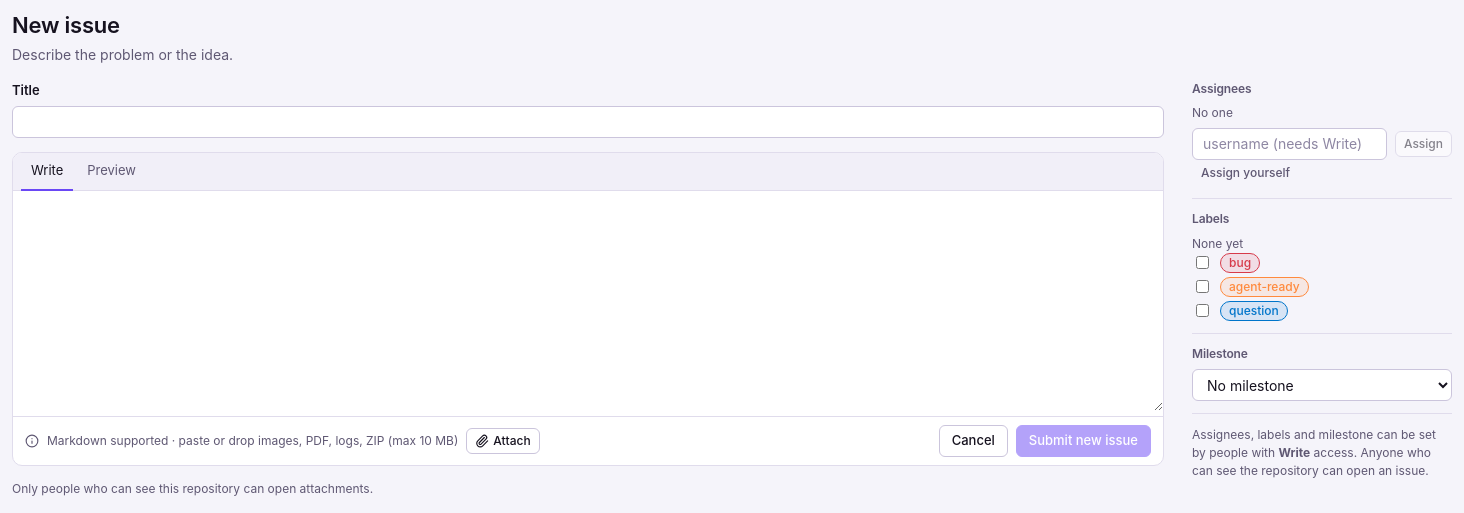
Test: NewIssuePage › suggerimenti di @menzione › Esc chiude i suggerimenti senza inserire nulla
Expected: the field labelled "Title" is shown, [12,106,1164,138]
Step 1. Type "@mr" into the text box named "Description" → (588, 300), box [13,190,1163,410]
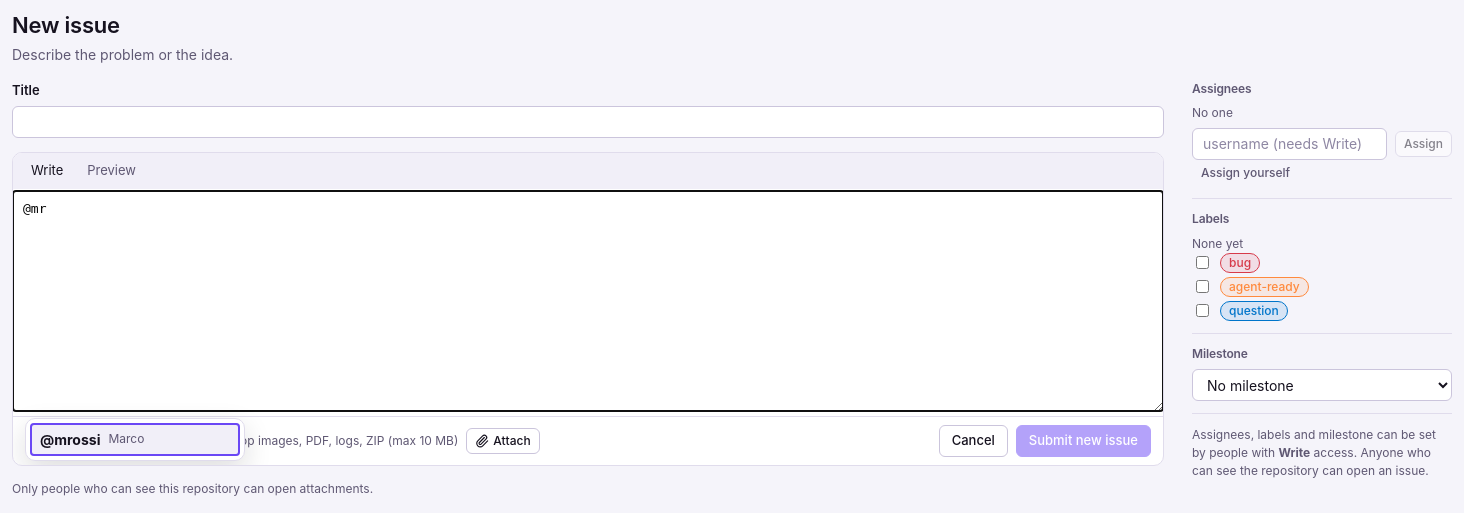
Expected: the list is shown, [25,418,245,460]
Step 2. Press Escape
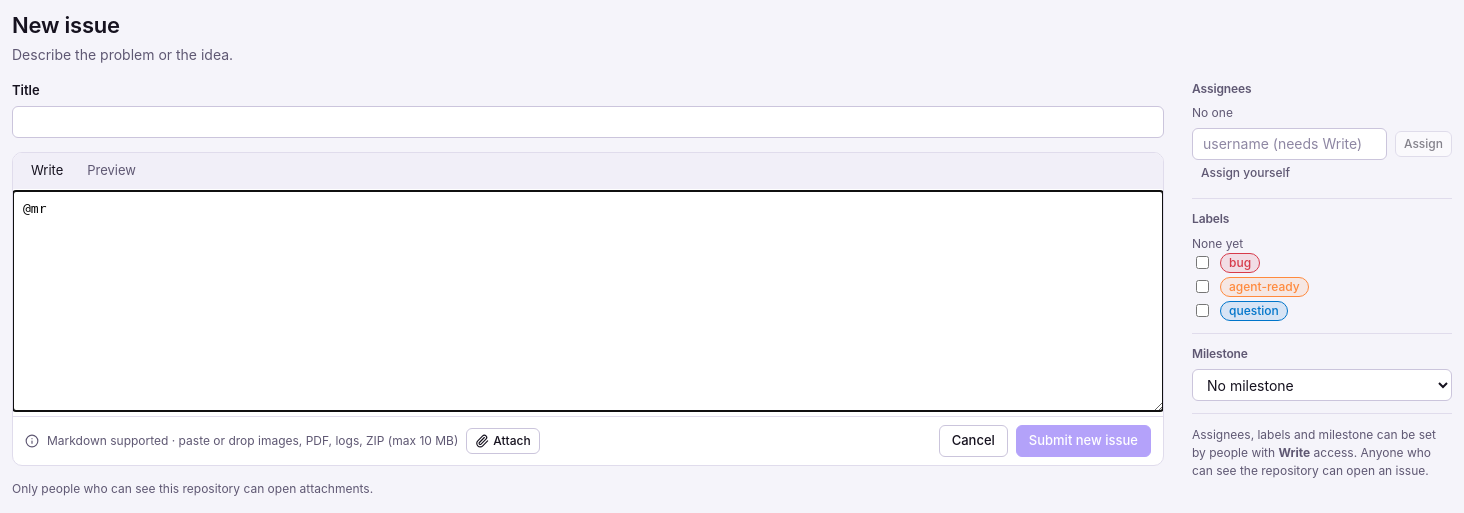
Expected: the list is gone
